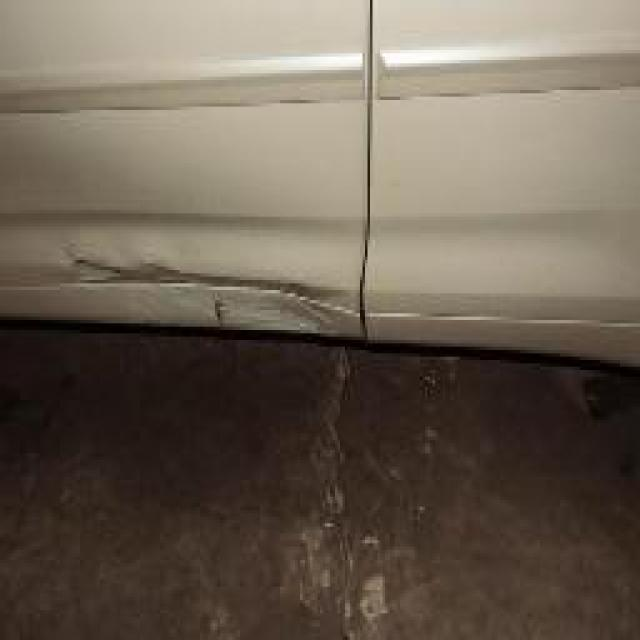Door: (42, 227, 355, 357)
